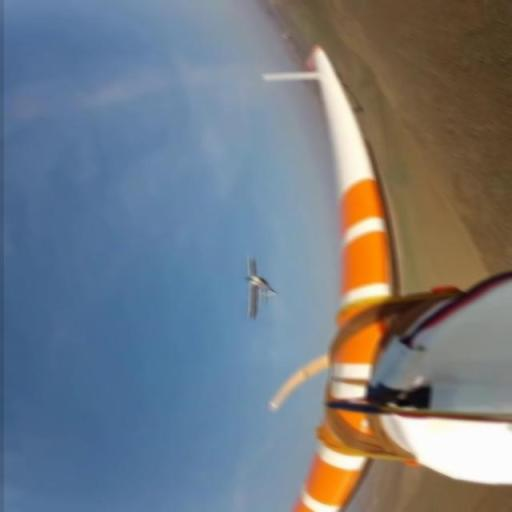uav: (239, 254, 280, 320)
